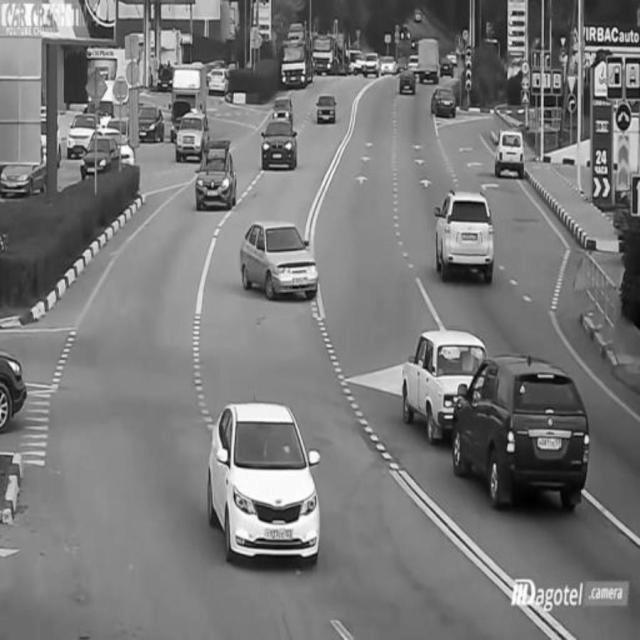vehicle: (200, 392, 330, 562), (461, 352, 589, 506), (404, 318, 475, 436), (238, 216, 321, 297), (433, 186, 497, 280), (193, 146, 240, 214), (0, 338, 30, 424), (260, 115, 301, 169), (80, 129, 121, 181), (130, 87, 164, 148), (494, 128, 529, 182), (172, 109, 206, 163), (278, 34, 312, 88), (414, 35, 449, 83), (315, 85, 339, 131), (429, 83, 457, 120), (205, 63, 231, 93), (360, 45, 380, 80)
